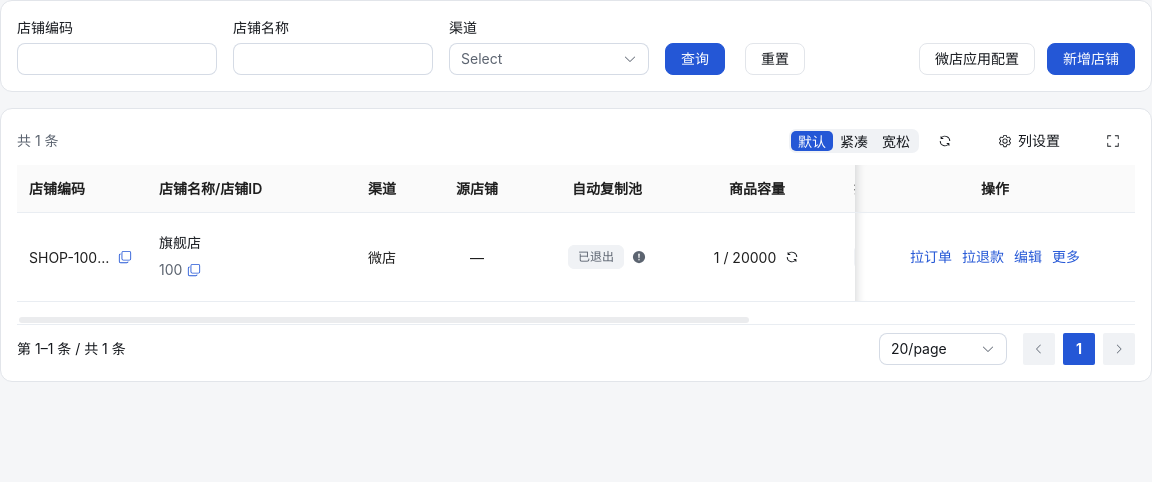
Test: shop list buttons › shows write actions only to the super administrator
The width and height of the screenshot is (1152, 482).
Expected: the button with test id "create" is shown, [1047,43,1135,75]
Expected: the button with test id "weidian-app-config" is shown, [919,43,1035,75]
Step 1. Click the button with test id "more-1" → (1066,257), box [1051,245,1081,269]
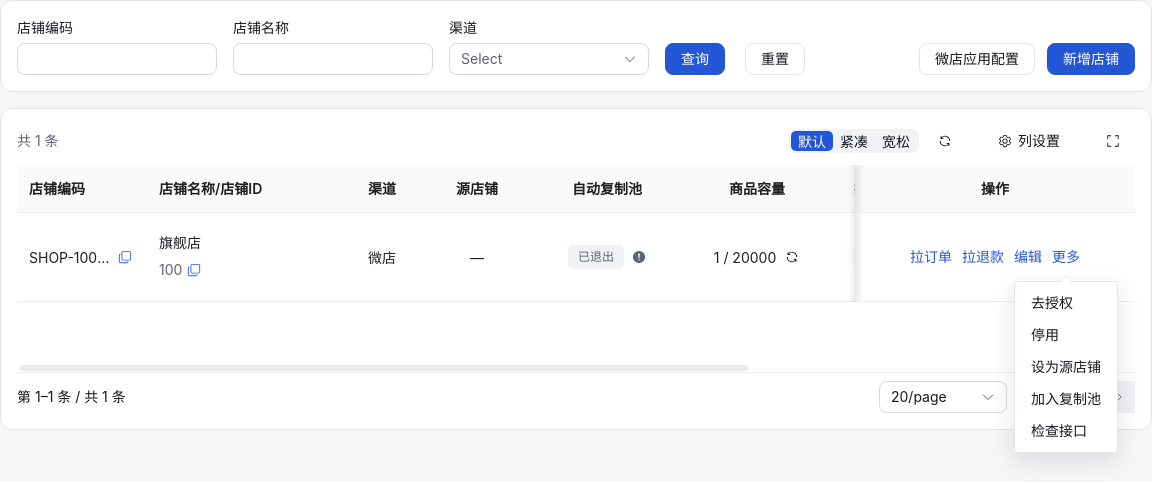
Expected: the menu item with test id "authorize-1" is shown, [1031,294,1073,311]
Expected: the menu item with test id "copy-pool-1" is shown, [1031,390,1101,407]
Expected: the menu item with test id "status-1" is shown, [1031,326,1059,343]
